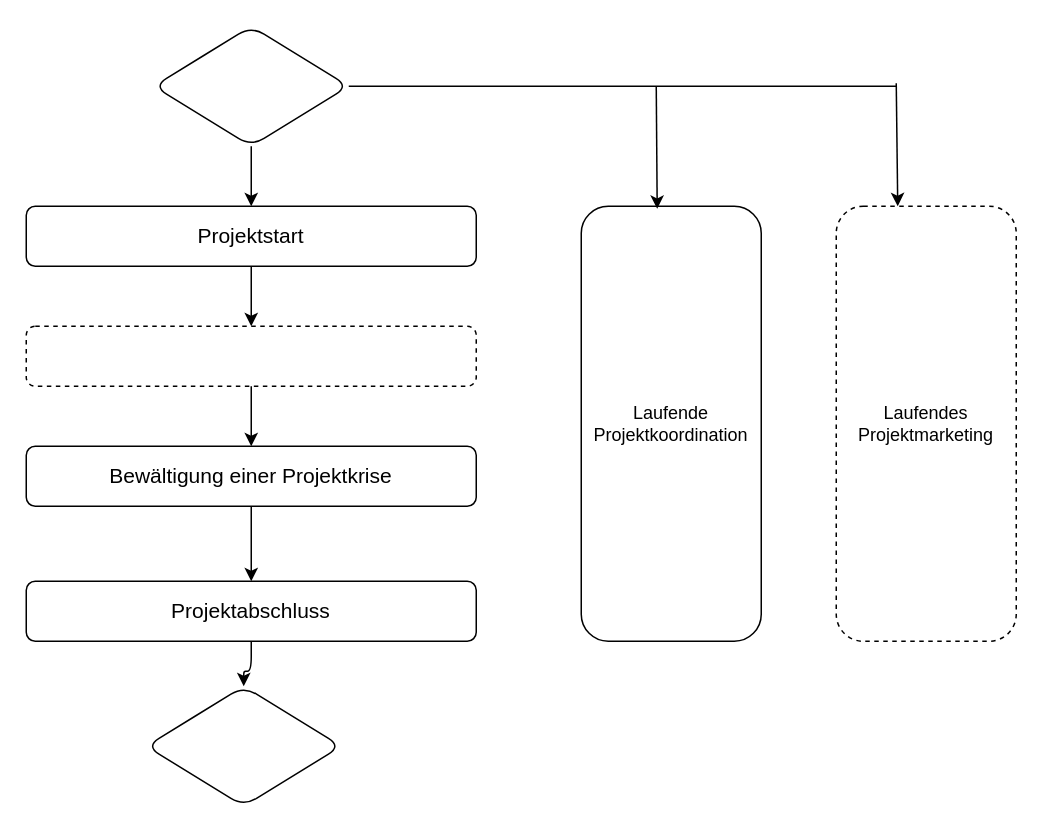
Some shapes in this 1043 by 833 pixel diagram are drawn without their labels. The centre of each missing label's shape, as x and y in pixels:
"Projektabnahme ist erledigt" goes at (243,745).
"Projektbeauftragung ist erfolgt" goes at (250,85).
"Projektcontrolling" goes at (250,355).
